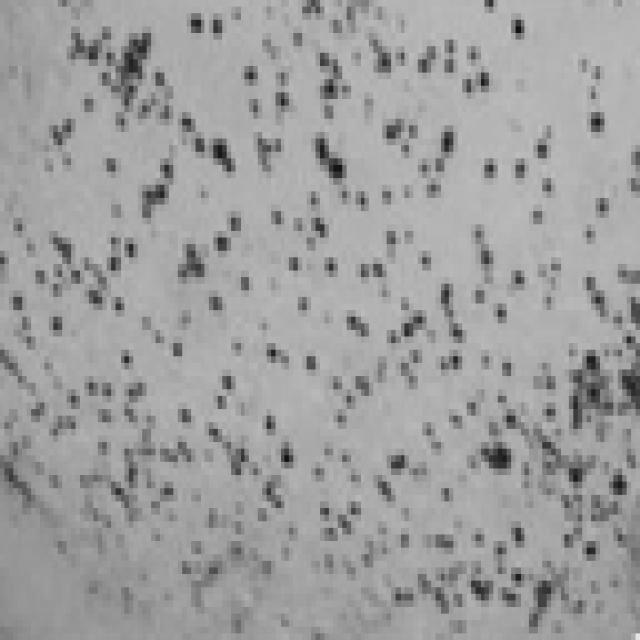stain marks: (0, 0, 635, 633)
